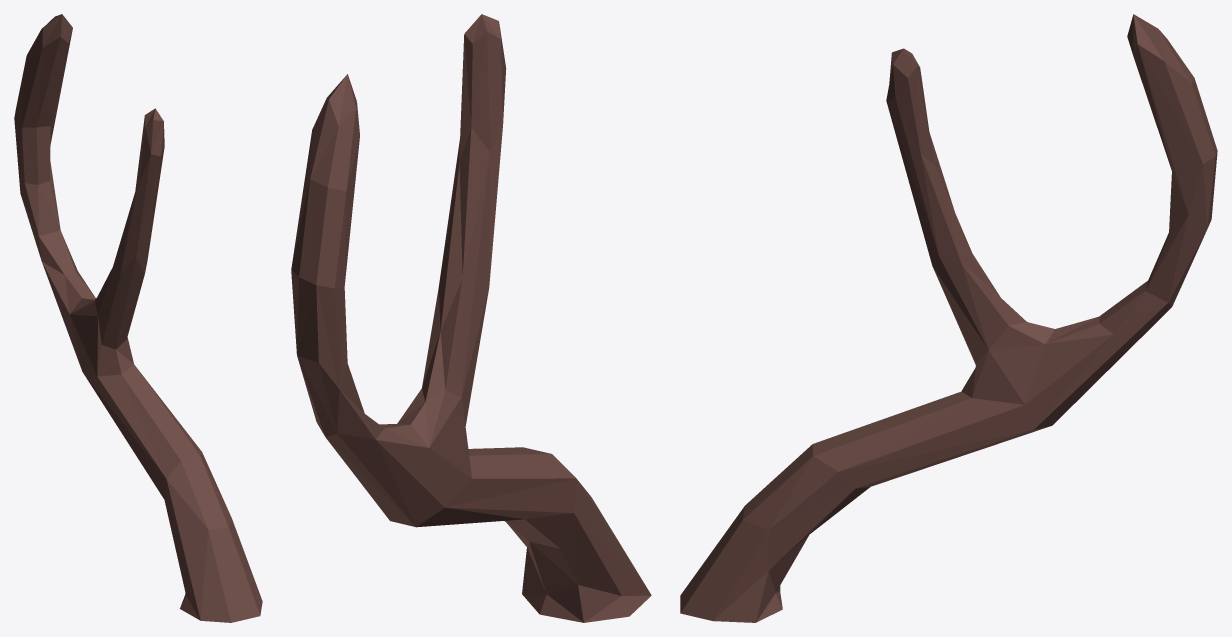
Rendered from Willow_Dead_3.lod1.glb.
3 views of the same model, side by side, from view 1: azimuth 30°, elevation 25°; view 2: azimuth 150°, elevation 25°; view 3: azimuth 270°, elevation 25° (orthographic). The views are drawn at different scales.
Parts seen in each view (by area): view 1: Willow_Dead_3; view 2: Willow_Dead_3; view 3: Willow_Dead_3.
Boxes of the visible parts, <box> form: Willow_Dead_3: <box>14,14,262,622</box>; Willow_Dead_3: <box>291,14,651,622</box>; Willow_Dead_3: <box>680,14,1217,622</box>.
Size of the model in its own units: 0.2951 by 1.9 by 1.57.
